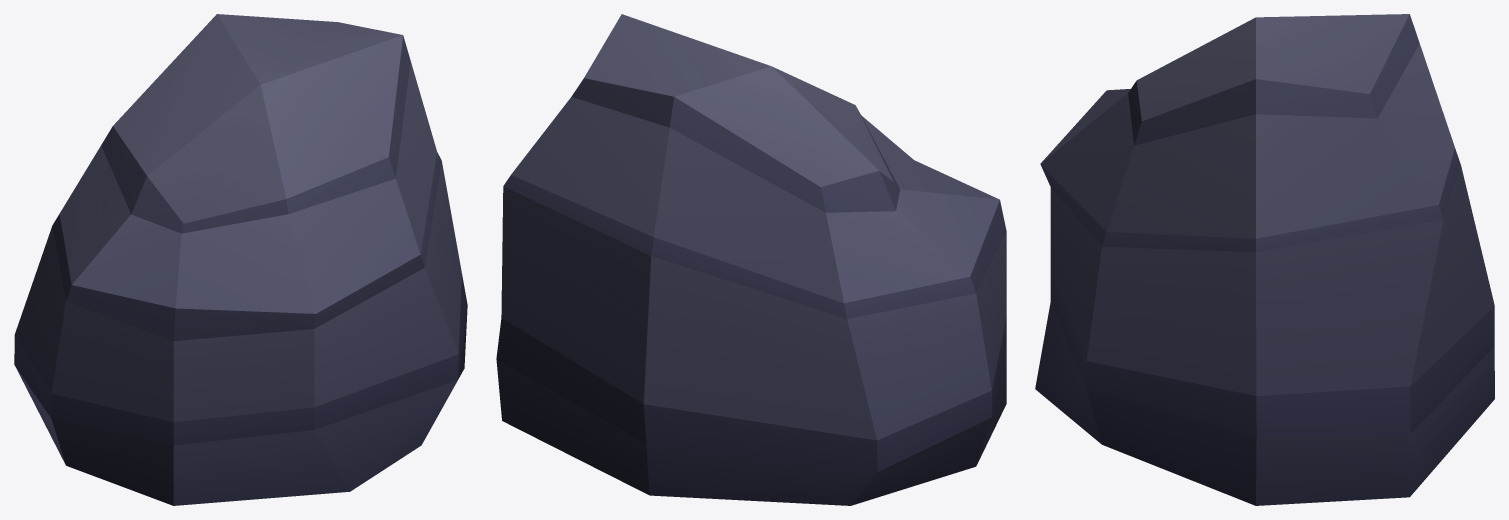
The model's file is Stone_01.fbx.
The picture shows the model from 3 angles, left to right: view 1: azimuth 30°, elevation 25°; view 2: azimuth 150°, elevation 25°; view 3: azimuth 270°, elevation 25°; orthographic projection. The views are drawn at different scales.
Parts seen in each view (by area): view 1: Stone_01; view 2: Stone_01; view 3: Stone_01.
Part boxes in pixels (x1,y1,x2,y2): Stone_01: (14, 14, 467, 505); Stone_01: (496, 14, 1006, 505); Stone_01: (1035, 14, 1494, 505).
Bounding box in the file's own units: 265 × 222 × 224.
Materials: 1 (1 with a texture image).
